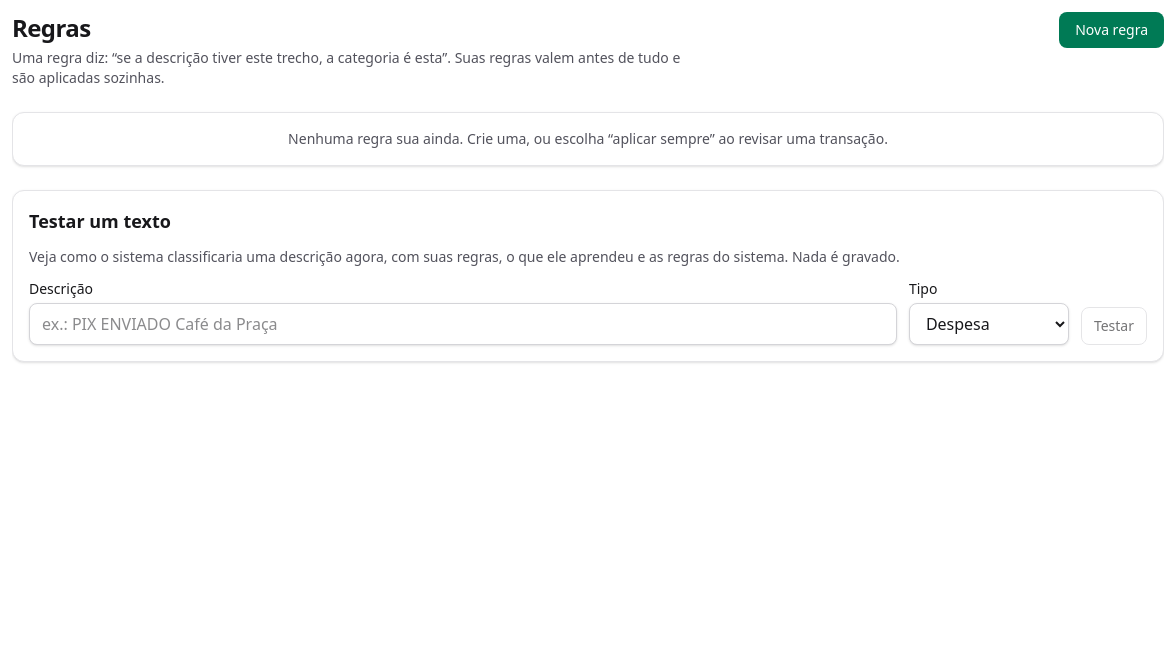
Test: RulesView › valida no cliente: trecho curto, sem alvo e prioridade fora da faixa
This screenshot has width=1176, height=668.
Click the button "Nova regra". click: (1112, 30)
box: 1059,12 -> 1164,48
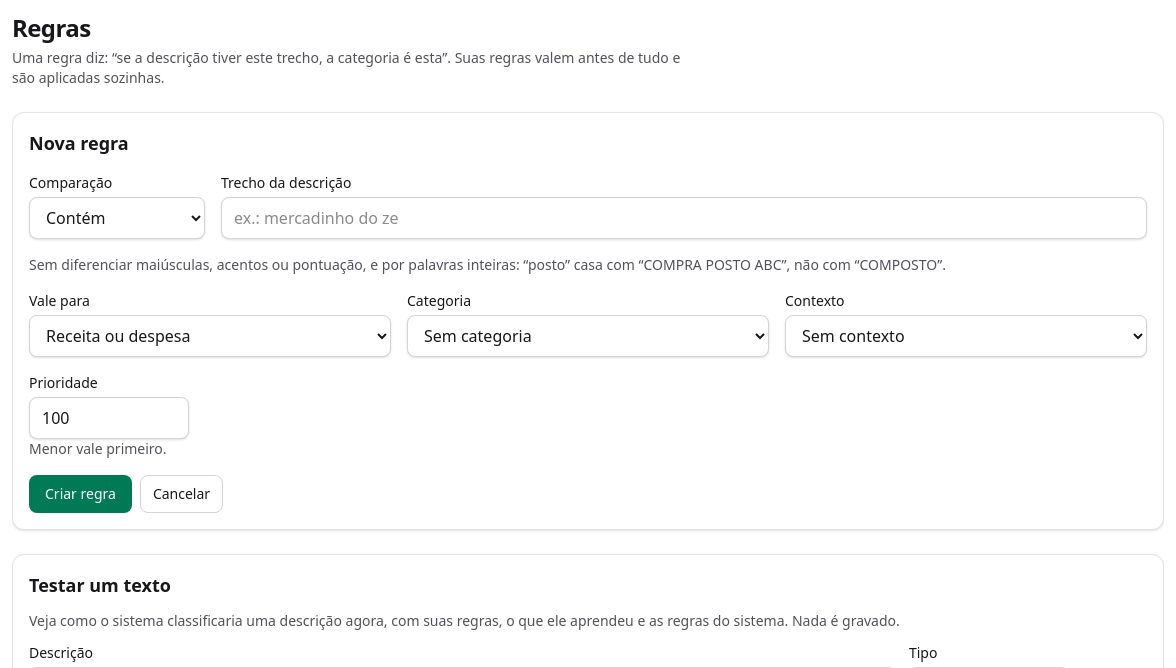
Type "a!" into the field labelled "Trecho da descrição". click: (684, 218)
box: 221,197 -> 1147,239
Click the button "Criar regra". click: (80, 494)
box: 29,475 -> 132,513
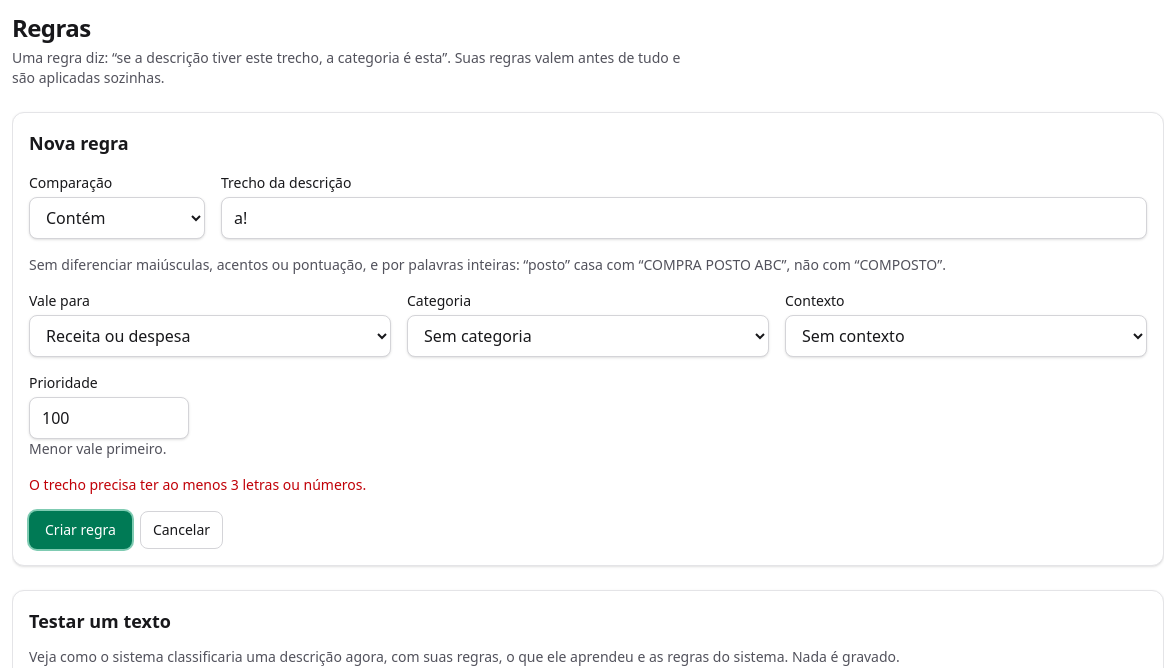
Now the message shows "ao menos 3 letras ou números", box 29,475 -> 366,494
Replace the text in the field labelled "Trecho da descrição" with "mercado". click: (684, 218)
box: 221,197 -> 1147,239
Click the button "Criar regra". click: (80, 530)
box: 29,511 -> 132,549
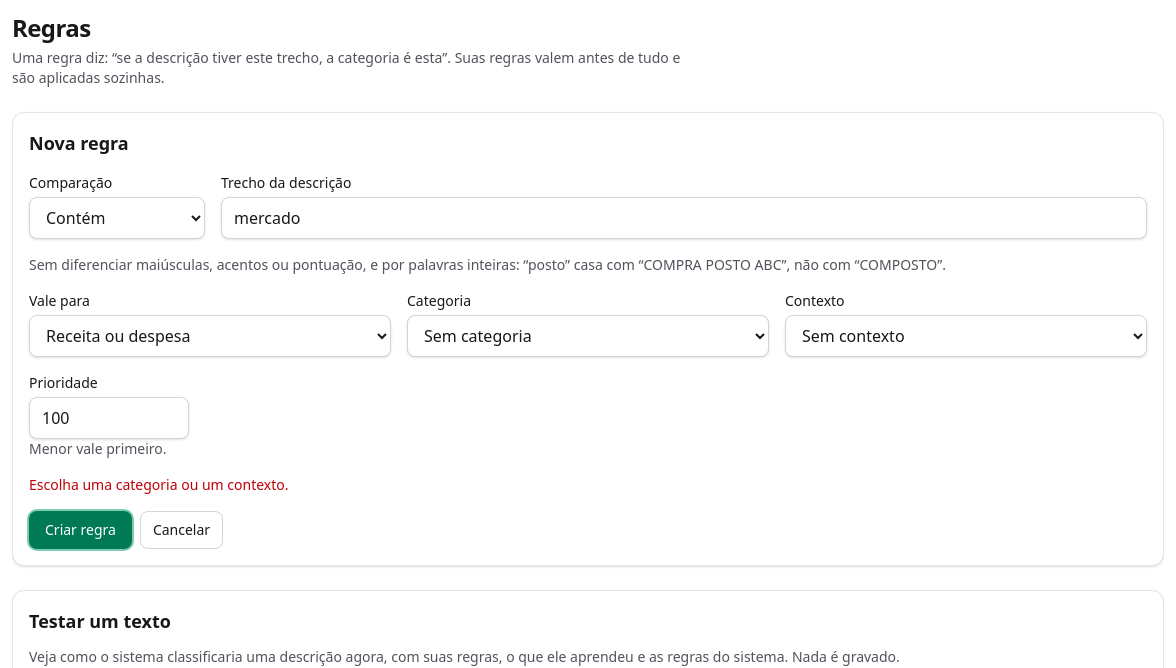
Now the message reads "Escolha uma categoria ou um contexto.", box 29,475 -> 288,494
Select "Restaurante" in the dropdown labelled "Categoria". click: (588, 336)
box: 407,315 -> 769,357
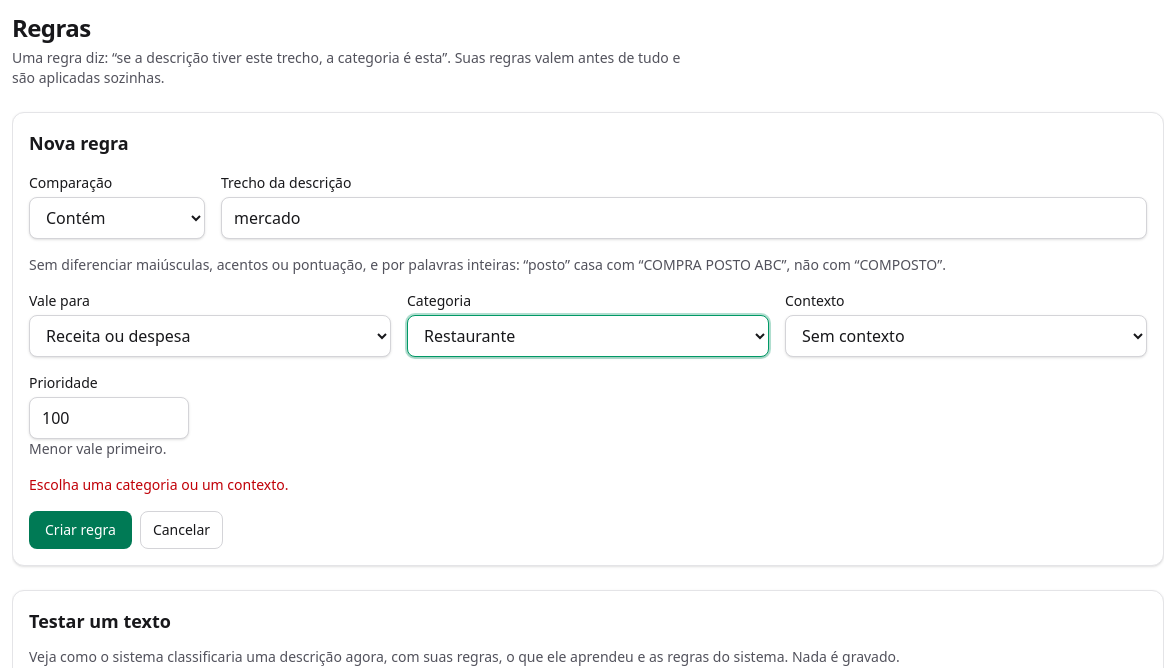
Replace the text in the number field labelled "Prioridade" with "20000". click: (109, 418)
box: 29,397 -> 189,439
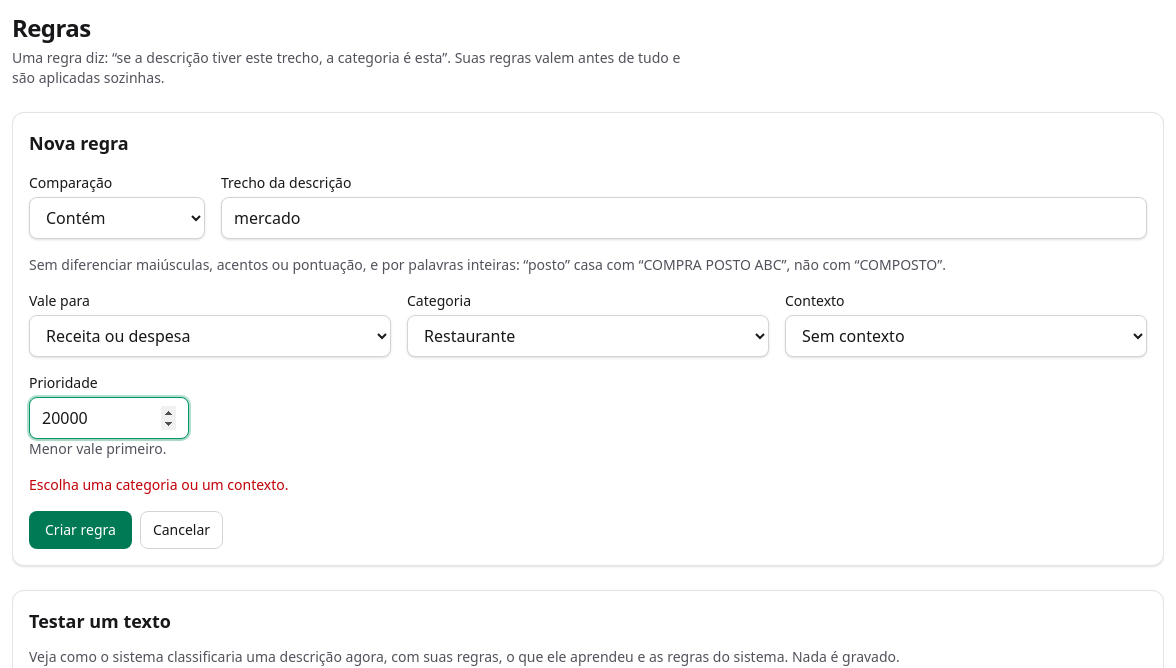
Click the button "Criar regra". click: (80, 530)
box: 29,511 -> 132,549
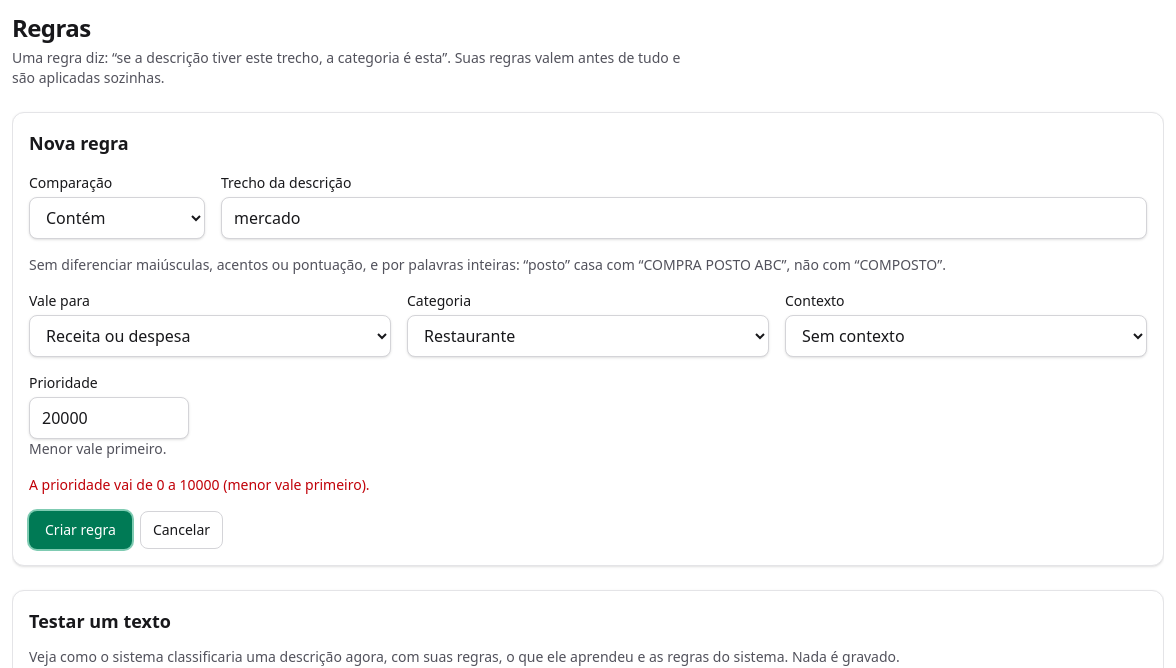
Now the message shows "A prioridade vai de 0 a 10000", box 29,475 -> 370,494
